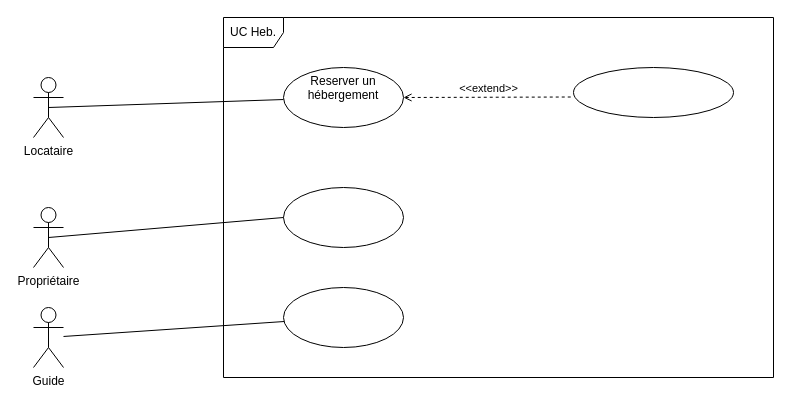
This 791x406 diagram has some shape labels left out. The centre of each missing label's shape, as x and y in pixels:
"Demander une visite touristique" goes at [653,92].
"Proposer un hébérgement" goes at [343,217].
"Proposer une visite de la ville" goes at [343,317].
